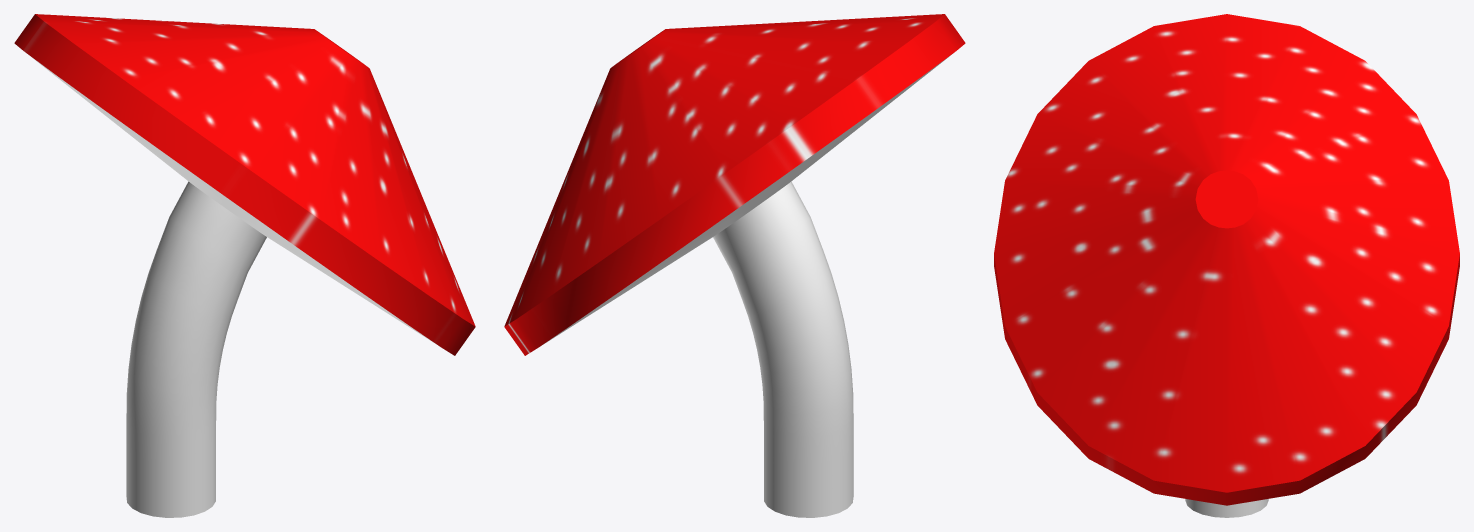
File: red mushroom.fbx
3 views of the same model, side by side, from view 1: azimuth 30°, elevation 25°; view 2: azimuth 150°, elevation 25°; view 3: azimuth 270°, elevation 25° (orthographic). The views are drawn at different scales.
Parts seen in each view (by area): view 1: pCylinder2; view 2: pCylinder2; view 3: pCylinder2.
Boxes of the visible parts, x1=… form: pCylinder2: x1=14, y1=14, x2=475, y2=517; pCylinder2: x1=504, y1=14, x2=965, y2=517; pCylinder2: x1=994, y1=14, x2=1459, y2=517.
Size of the model in its own units: 15.58 by 18.62 by 17.76.
